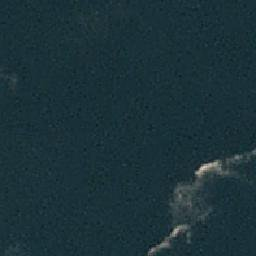debris: (193, 149, 256, 183), (166, 182, 209, 224), (144, 227, 194, 256)
